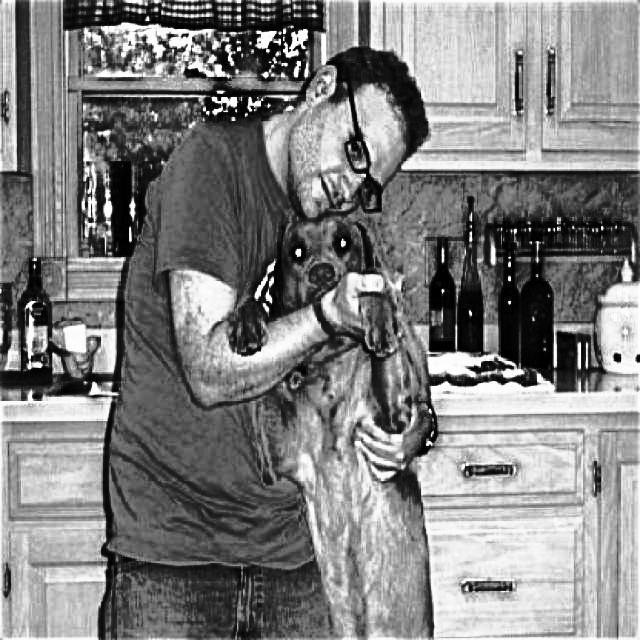Dog: (229, 206, 440, 640)
Person: (101, 41, 433, 640)
